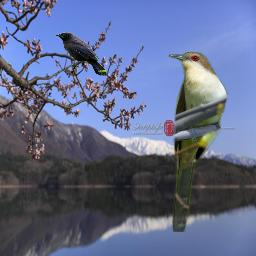Crow: (55, 32, 107, 76)
Cuckoo: (168, 51, 229, 232)
